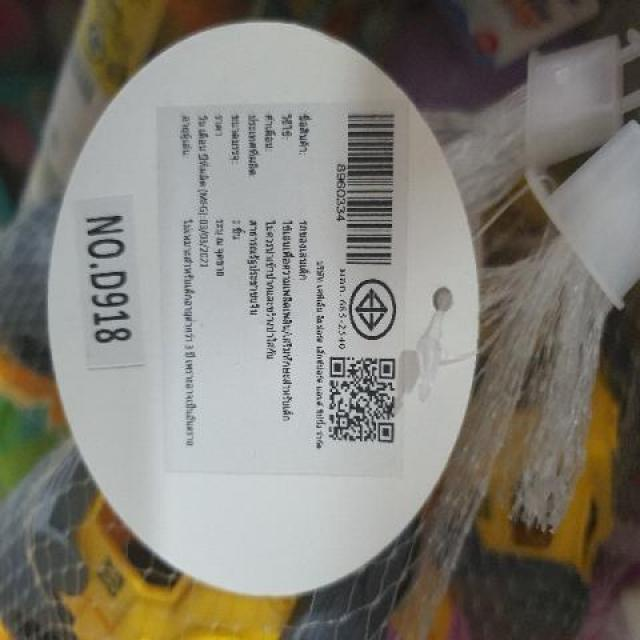Barcode: (335, 104, 401, 277)
